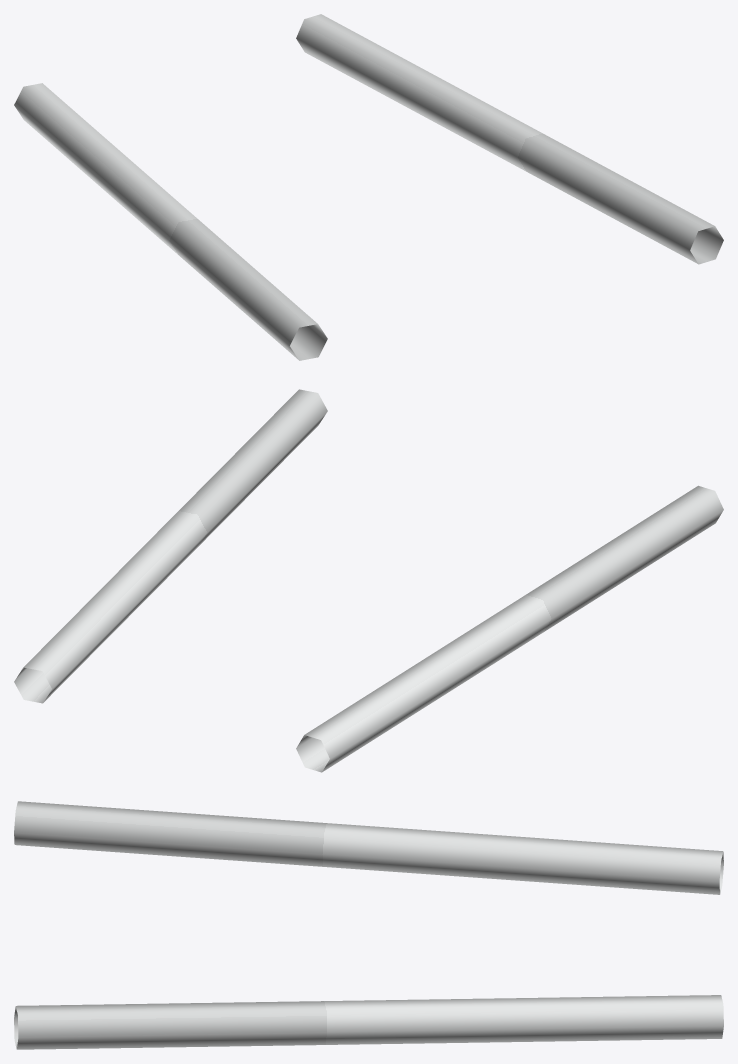
Rendered from nycsignalarm_regular6_c8.obj.
The picture shows the model from 3 angles, top to bottom: view 1: azimuth 30°, elevation 25°; view 2: azimuth 150°, elevation 25°; view 3: azimuth 270°, elevation 25°; orthographic projection. The views are drawn at different scales.
Parts seen in each view (by area): view 1: nycsignalarm_regular6_c8; view 2: nycsignalarm_regular6_c8; view 3: nycsignalarm_regular6_c8.
Part boxes in pixels (x1,y1,x2,y2): nycsignalarm_regular6_c8: [14, 14, 723, 360]; nycsignalarm_regular6_c8: [14, 389, 723, 772]; nycsignalarm_regular6_c8: [14, 801, 723, 1049].
Bounding box in the file's own units: 0.7486 × 0.0847 × 1.01.
